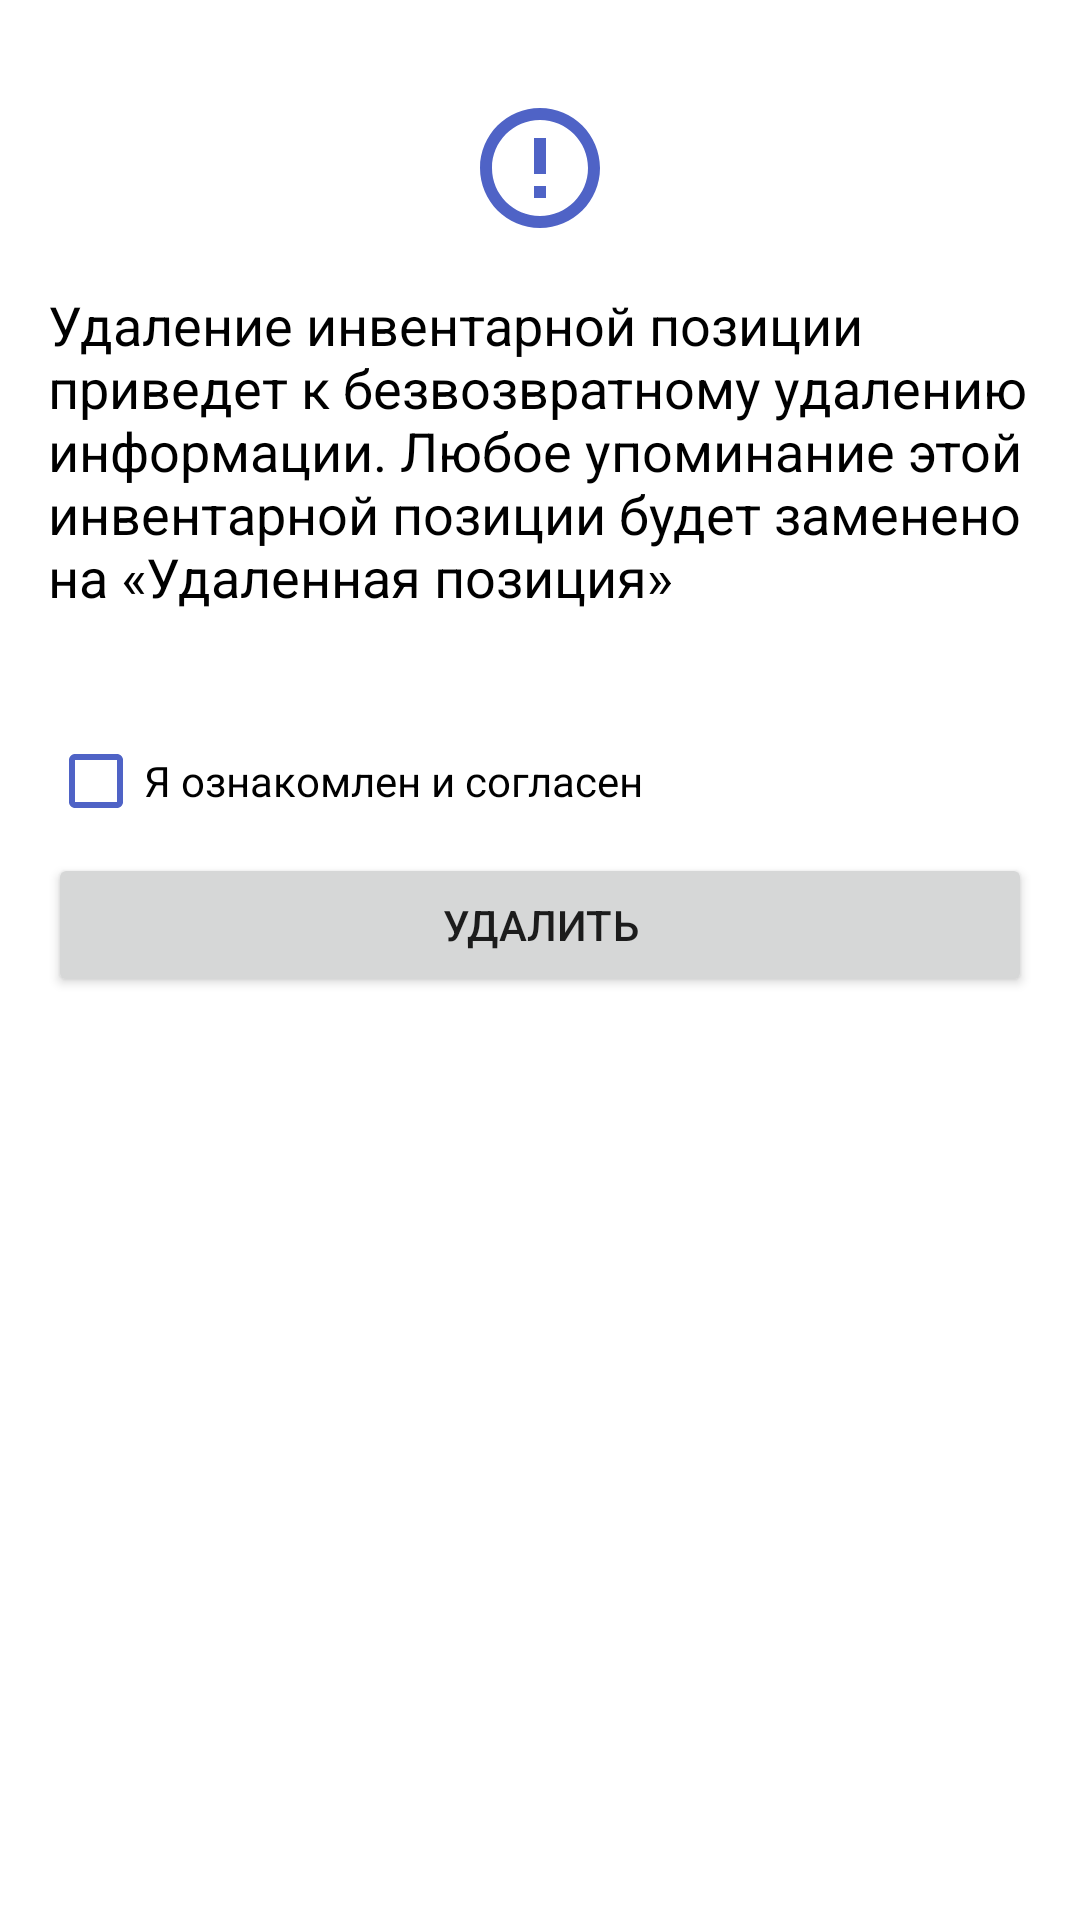

Icon click points for this 1080px x 1920px phone screenshot, format point (x, y):
warning: point (540, 168)
